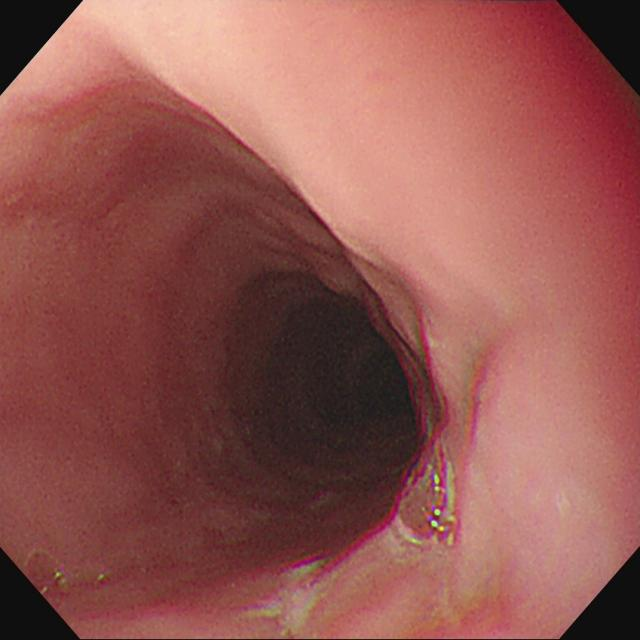E: (224, 266, 429, 489)
T: (395, 452, 459, 546)
